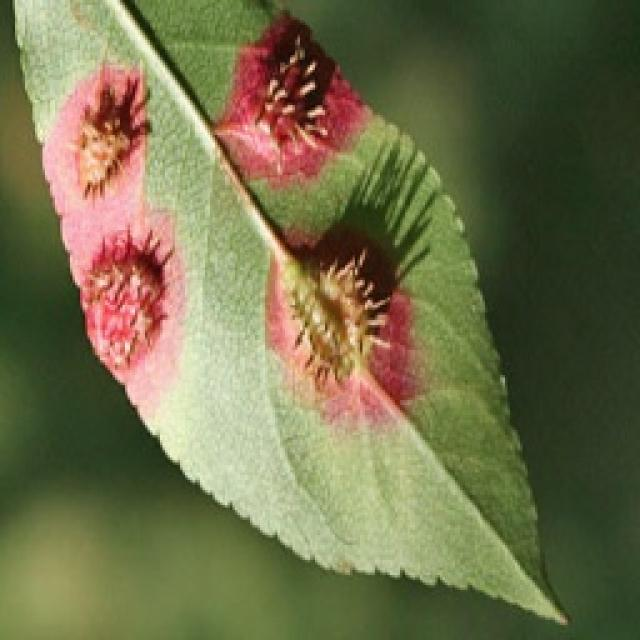Gymnosporangium_Rusts: (22, 0, 570, 625)
